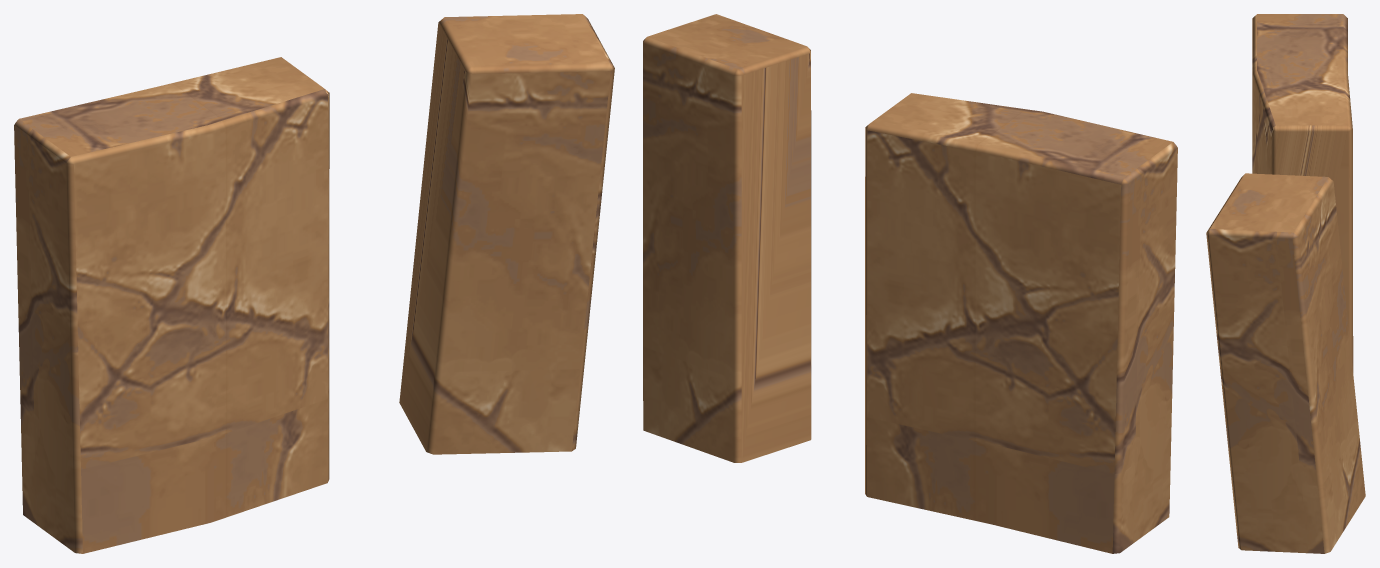
The model's file is templebrick1.fbx.
3 renders of one model, left to right at view 1: azimuth 30°, elevation 25°; view 2: azimuth 150°, elevation 25°; view 3: azimuth 270°, elevation 25°, orthographic. The views are drawn at different scales.
Parts seen in each view (by area): view 1: Colonne.002; view 2: Colonne.002; view 3: Colonne.002.
Boxes of the visible parts, box(x1,y1,x2,y2) form: Colonne.002: box(14, 14, 614, 553); Colonne.002: box(643, 14, 1177, 553); Colonne.002: box(1206, 14, 1365, 553).
Bounding box in the file's own units: 1085 × 787 × 333.
